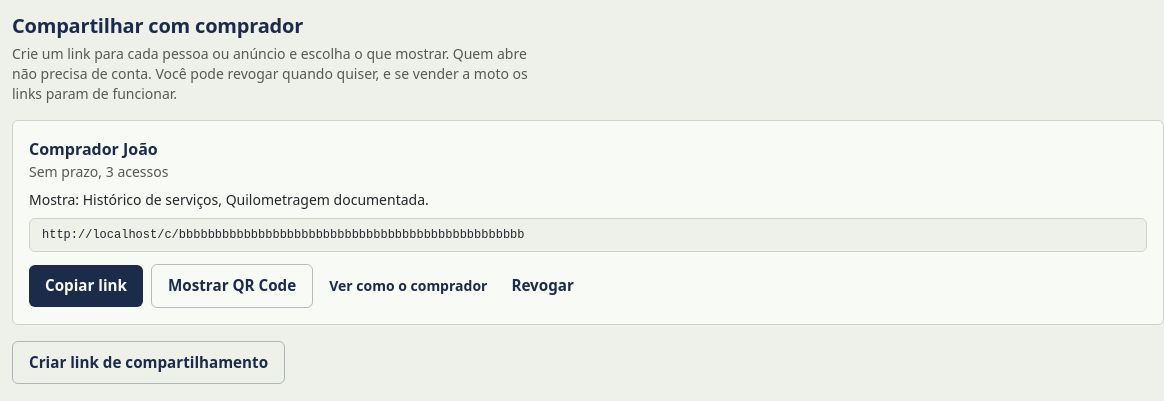
Test: ShareSection (titular) › revoga com confirmação e move para encerrados
Expected: the text "Sem prazo, 3 acessos" is shown, [29, 162, 168, 182]
Click the button "Revogar" at (543, 286), box [503, 267, 582, 304]
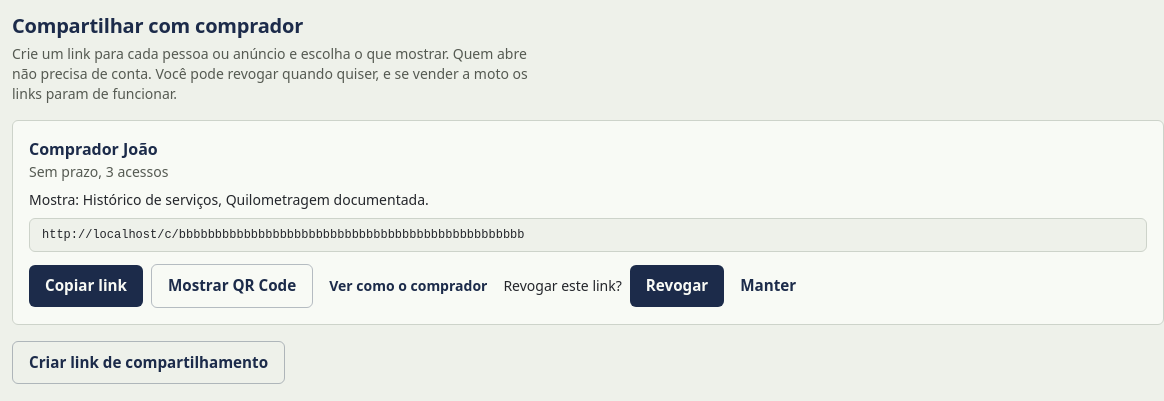
Click the button "Revogar" at (677, 286), box [630, 265, 724, 306]
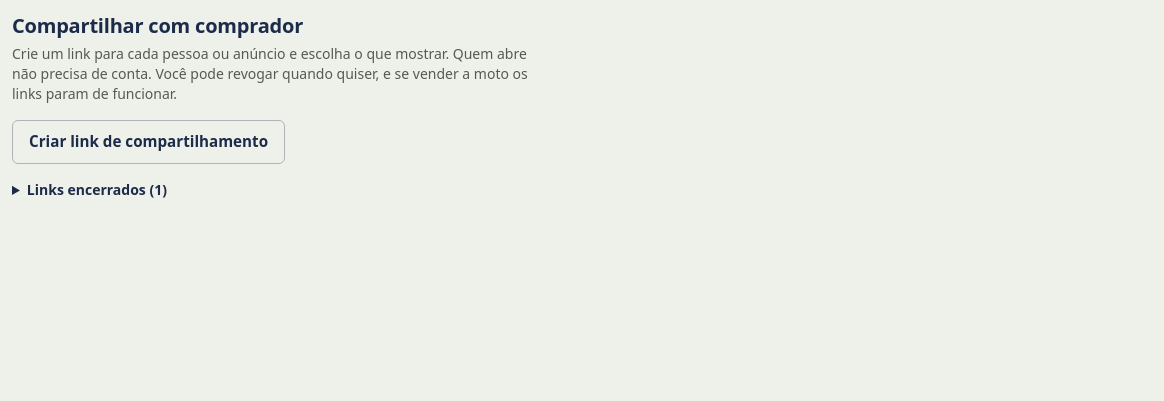
Now the heading "Links encerrados (1)" is shown, box [27, 180, 167, 199]
